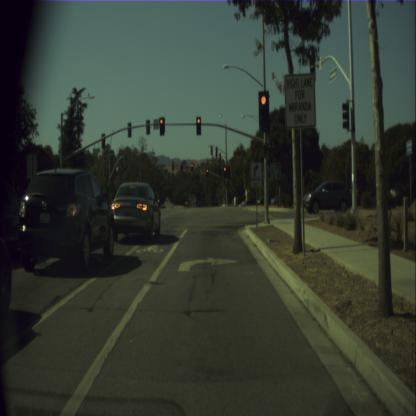Red: (258, 90, 269, 131), (159, 116, 165, 136), (196, 116, 201, 135), (223, 166, 226, 178), (171, 162, 174, 171), (206, 168, 209, 177), (190, 163, 193, 171), (180, 162, 182, 171)
